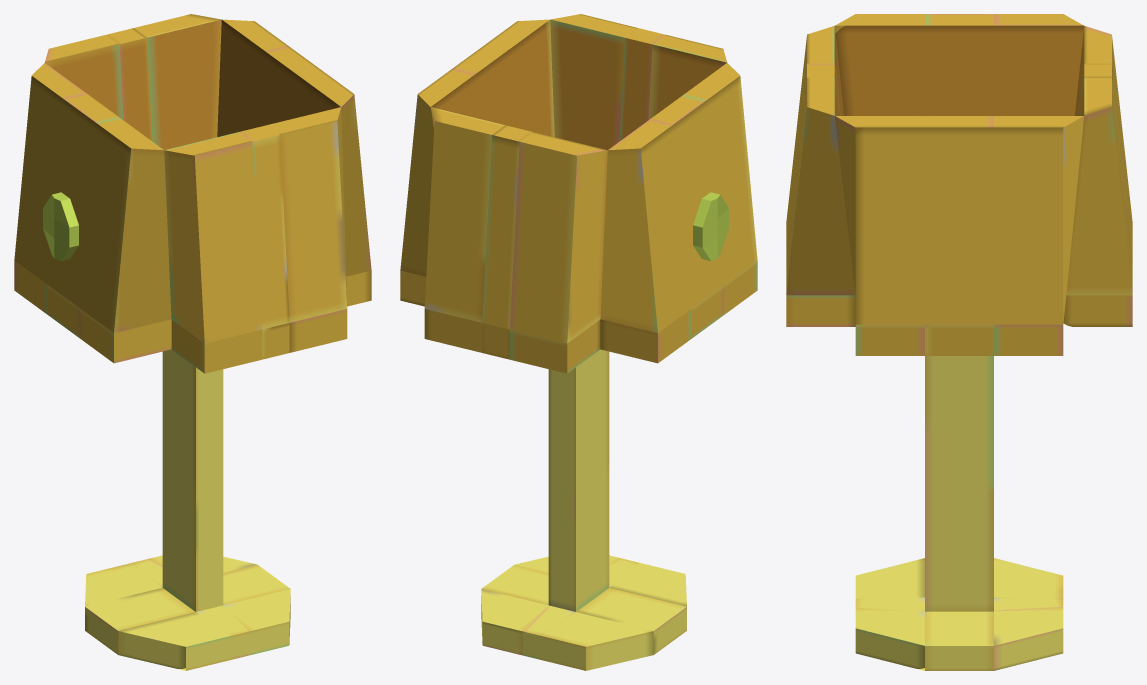
The model's file is kadeh.obj.
3 renders of one model, left to right at view 1: azimuth 30°, elevation 25°; view 2: azimuth 150°, elevation 25°; view 3: azimuth 270°, elevation 25°, orthographic. The views are drawn at different scales.
Parts seen in each view (by area): view 1: cube; view 2: cube; view 3: cube.
Part boxes in pixels (bbox=[...]): cube: bbox=[14, 14, 371, 670]; cube: bbox=[400, 14, 757, 670]; cube: bbox=[786, 14, 1132, 670].
Size of the model in its own units: 0.2907 by 0.5562 by 0.3125.
